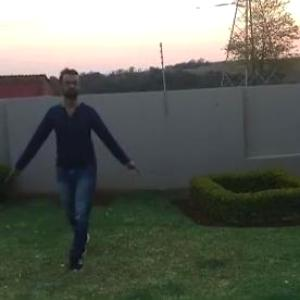land: (3, 64, 130, 277)
